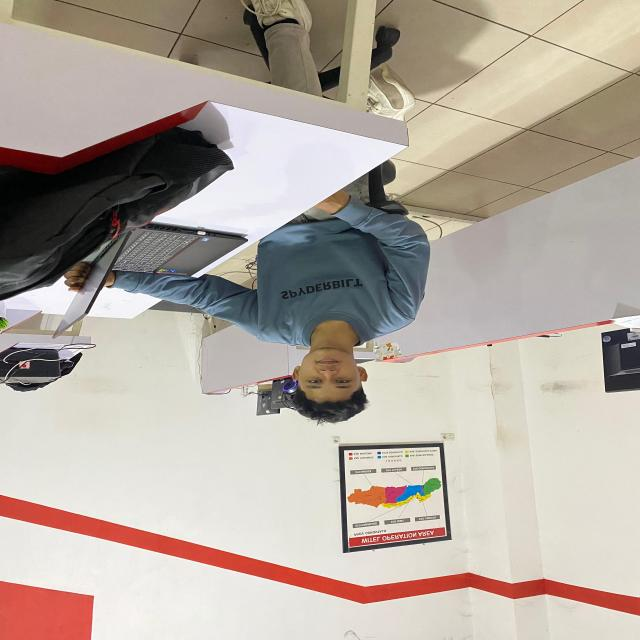nohelmet: (277, 348, 381, 425)
